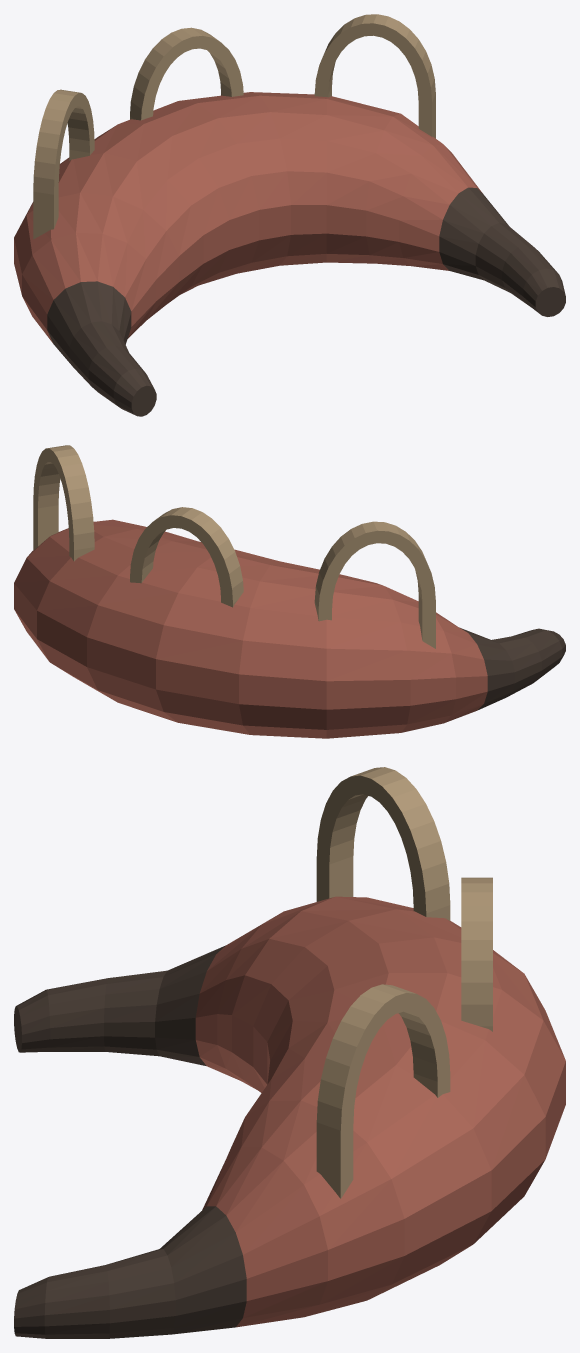
The picture shows the model from 3 angles, top to bottom: view 1: azimuth 30°, elevation 25°; view 2: azimuth 150°, elevation 25°; view 3: azimuth 270°, elevation 25°; orthographic projection. The views are drawn at different scales.
Parts seen in each view (by area): view 1: WholeCrescentBodyWithIntegralEndGrips, WholeArchedShoulderHandle_3, WholeArchedShoulderHandle_1, WholeArchedShoulderHandle_2; view 2: WholeCrescentBodyWithIntegralEndGrips, WholeArchedShoulderHandle_1, WholeArchedShoulderHandle_3, WholeArchedShoulderHandle_2; view 3: WholeCrescentBodyWithIntegralEndGrips, WholeArchedShoulderHandle_1, WholeArchedShoulderHandle_3, WholeArchedShoulderHandle_2.
Part boxes in pixels (bbox=[...]): WholeCrescentBodyWithIntegralEndGrips: bbox=[14, 92, 565, 416]; WholeArchedShoulderHandle_3: bbox=[33, 89, 94, 239]; WholeArchedShoulderHandle_1: bbox=[314, 14, 435, 138]; WholeArchedShoulderHandle_2: bbox=[130, 27, 243, 120]; WholeCrescentBodyWithIntegralEndGrips: bbox=[14, 519, 565, 738]; WholeArchedShoulderHandle_1: bbox=[33, 445, 94, 561]; WholeArchedShoulderHandle_3: bbox=[314, 521, 435, 648]; WholeArchedShoulderHandle_2: bbox=[130, 507, 243, 607]; WholeCrescentBodyWithIntegralEndGrips: bbox=[14, 896, 565, 1338]; WholeArchedShoulderHandle_1: bbox=[316, 984, 450, 1198]; WholeArchedShoulderHandle_3: bbox=[316, 767, 450, 920]; WholeArchedShoulderHandle_2: bbox=[461, 877, 492, 1031].
Bounding box in the file's own units: 0.5708 × 0.26 × 0.421.
